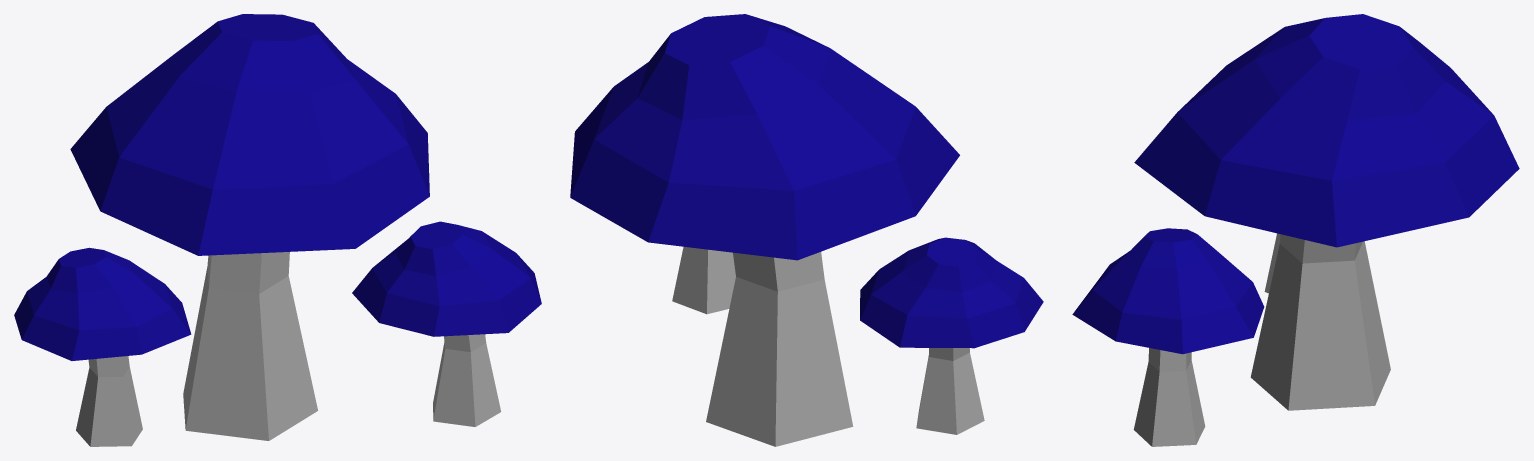
Rendered from Mushroom_05.fbx.
3 renders of one model, left to right at view 1: azimuth 30°, elevation 25°; view 2: azimuth 150°, elevation 25°; view 3: azimuth 270°, elevation 25°, orthographic. The views are drawn at different scales.
Parts seen in each view (by area): view 1: Mushroom_05; view 2: Mushroom_05; view 3: Mushroom_05.
Part boxes in pixels (<box>): Mushroom_05: <box>14,14,541,446</box>; Mushroom_05: <box>570,14,1043,446</box>; Mushroom_05: <box>1072,14,1519,446</box>.
Size of the model in its own units: 132 by 104 by 114.
